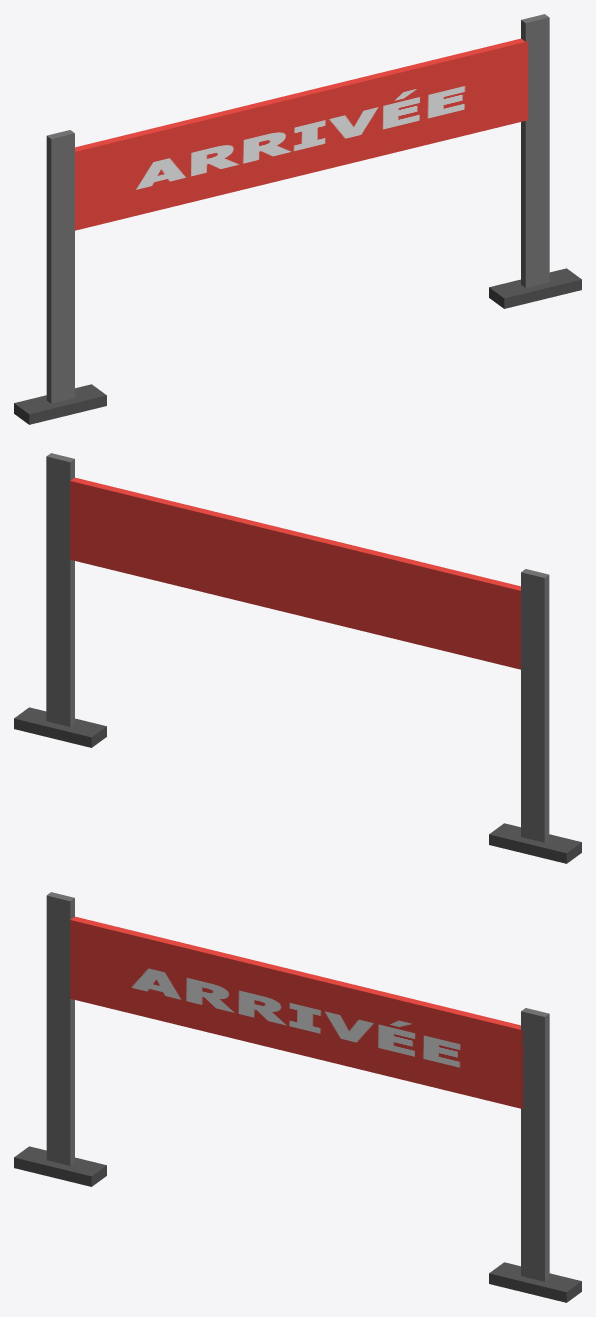
File: gate.glb
The picture shows the model from 3 angles, top to bottom: view 1: azimuth 30°, elevation 25°; view 2: azimuth 150°, elevation 25°; view 3: azimuth 330°, elevation 25°; orthographic projection.
Visible parts, largest first — view 1: Finish; view 2: Finish; view 3: Finish.
Part boxes in pixels (x1=…): Finish: x1=14, y1=14, x2=581, y2=424; Finish: x1=14, y1=453, x2=581, y2=863; Finish: x1=14, y1=892, x2=581, y2=1302.
Size of the model in its own units: 13.68 by 6.51 by 0.6542.
1 material, 1 textured.
